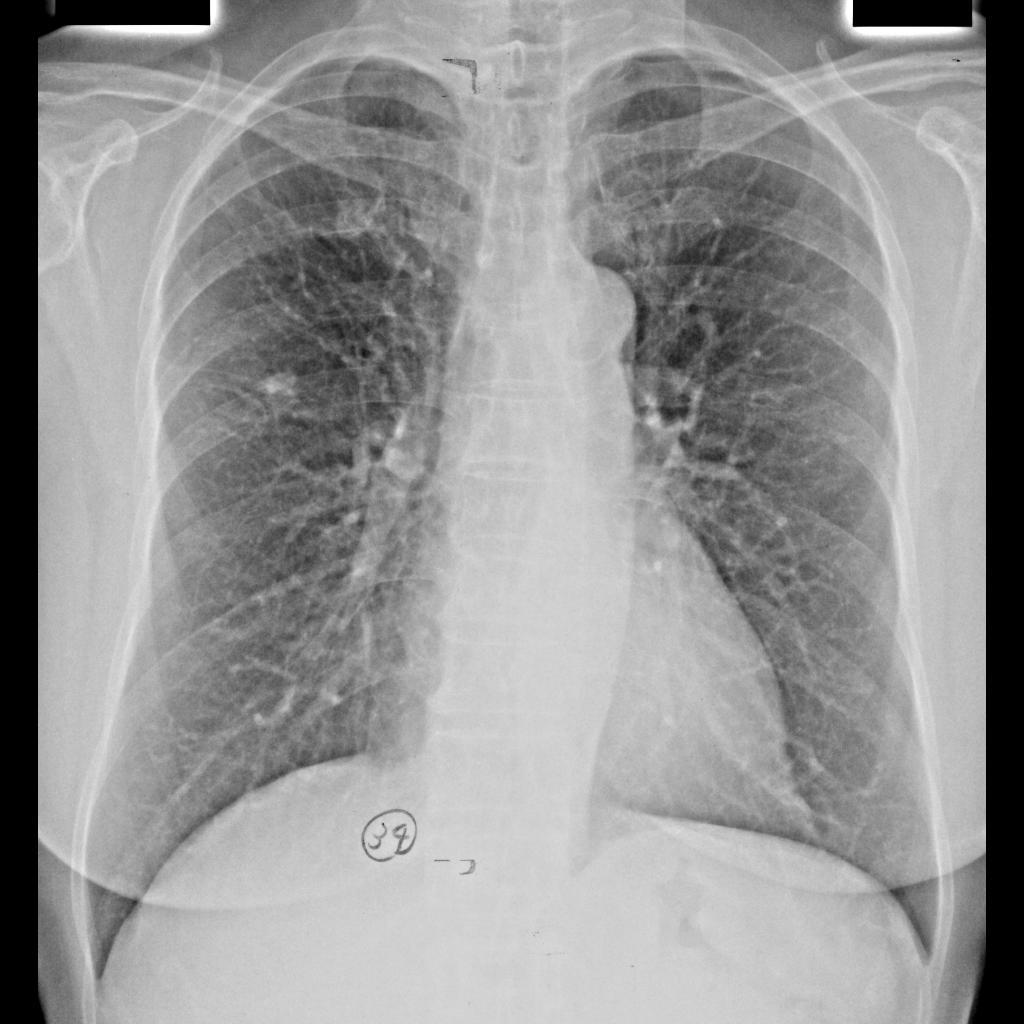Nodule: (255, 370, 303, 418)
